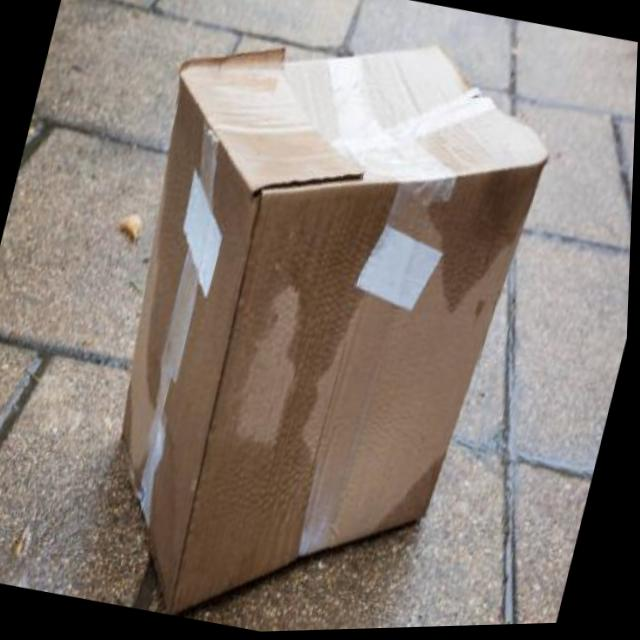box: (46, 0, 589, 638)
